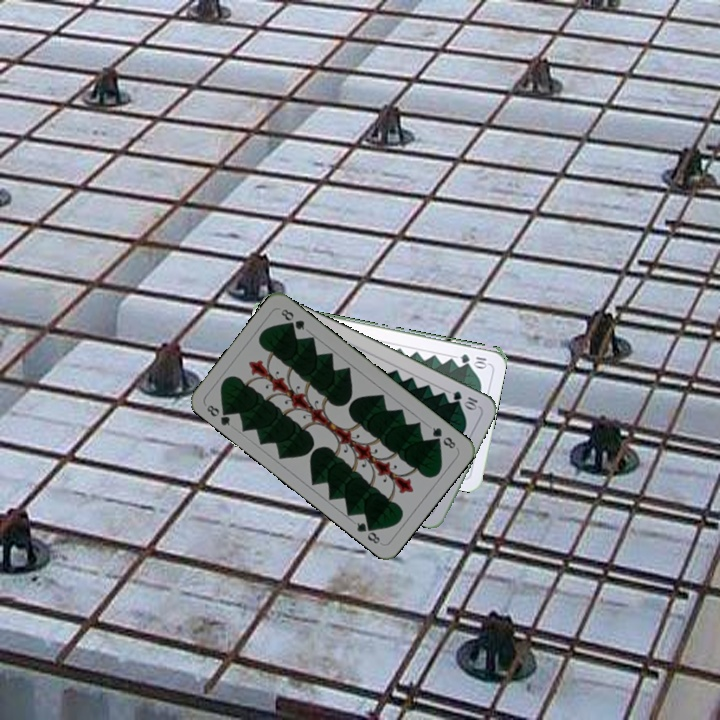G10: (449, 387, 481, 412), (457, 350, 490, 368)
G8: (203, 401, 234, 429), (428, 423, 458, 451)
